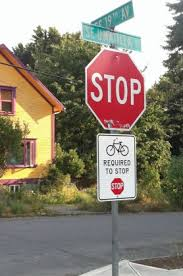stop_sign: (86, 49, 147, 130)
